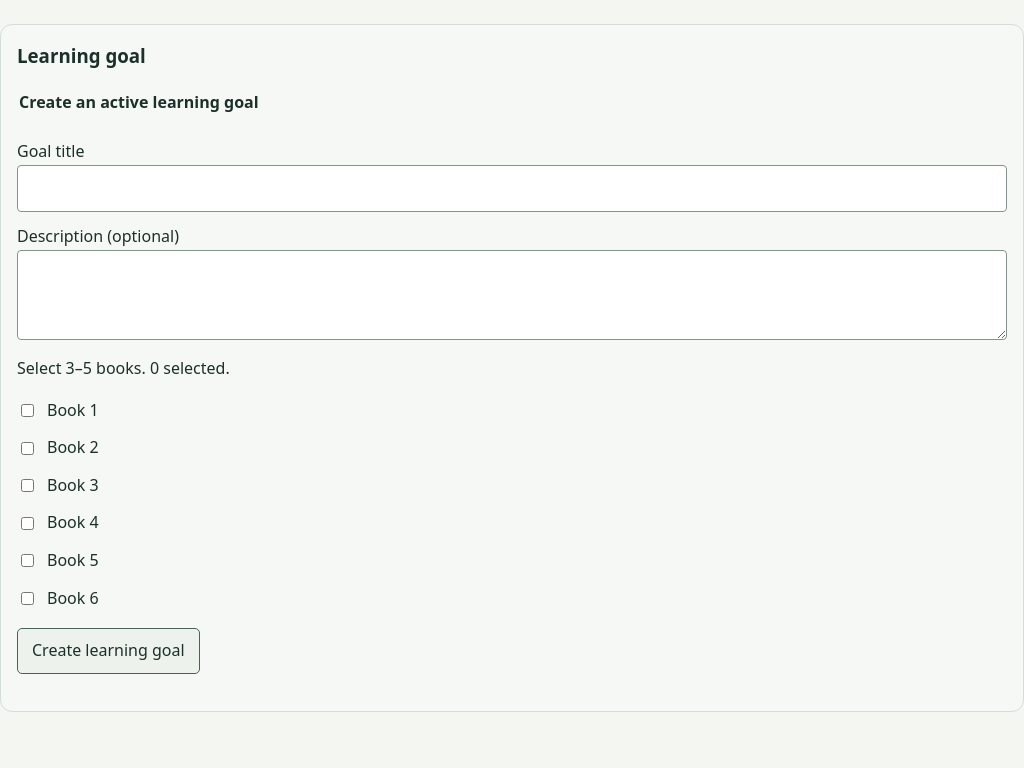
Scenario: learning goals UI › creates a goal with three selected books and focuses its heading
Type "Systems" into the field labelled "Goal title". click: point(512, 189)
box: [17,165,1007,212]
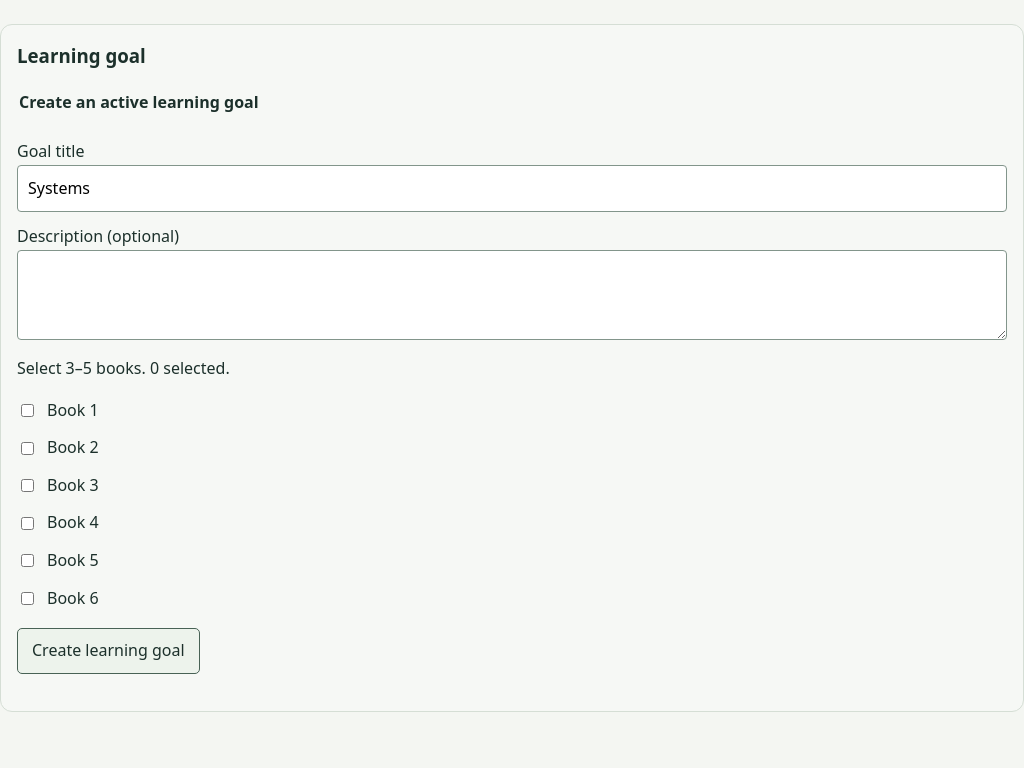
Type "Learn the foundations." into the text box labelled "Description (optional)". click: point(512, 295)
box: [17,250,1007,340]
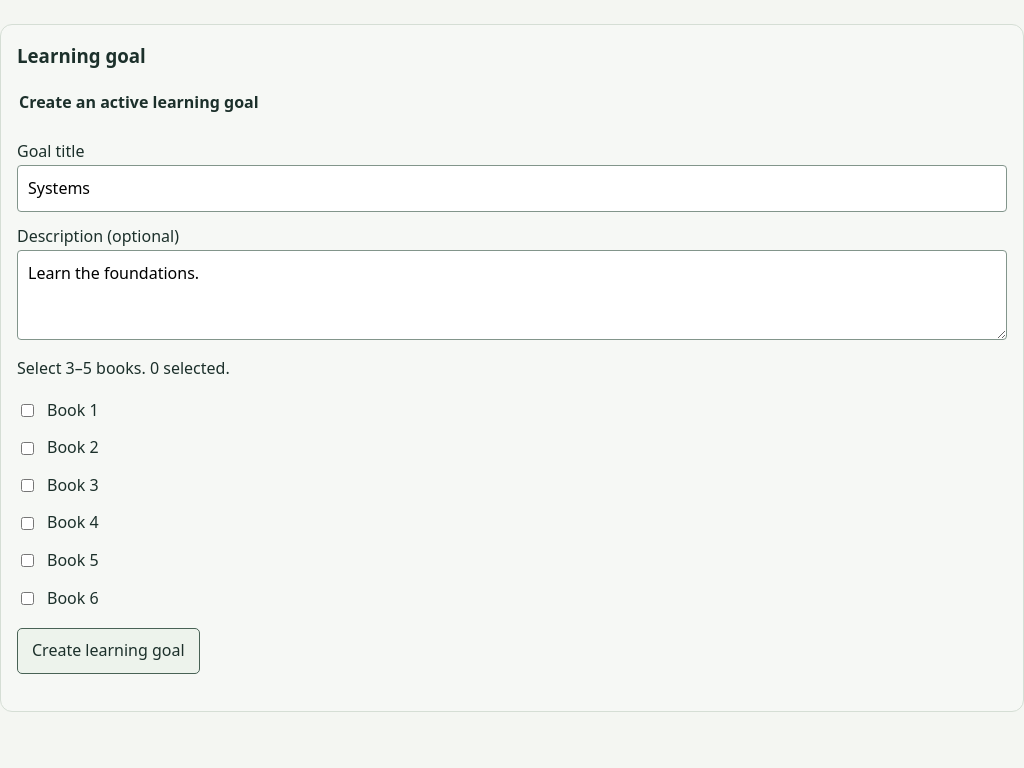
Click the checkbox labelled "Book 1". click: point(28, 410)
box: [21,404,34,417]
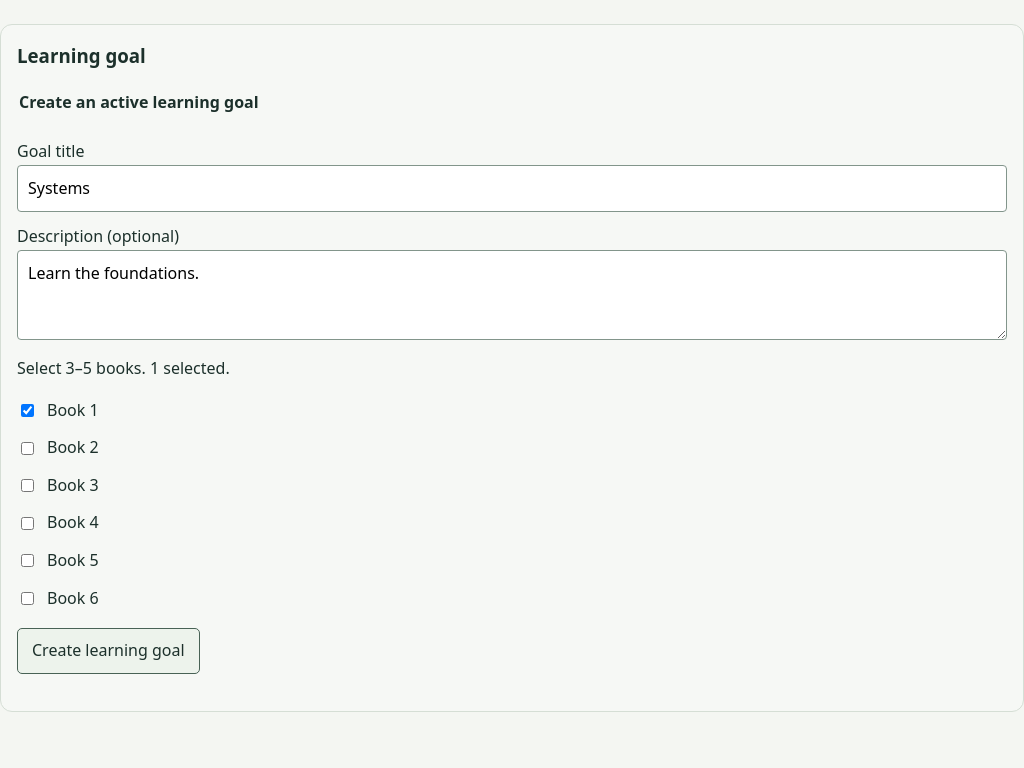
Click the checkbox labelled "Book 2". click: point(28, 448)
box: [21,442,34,454]
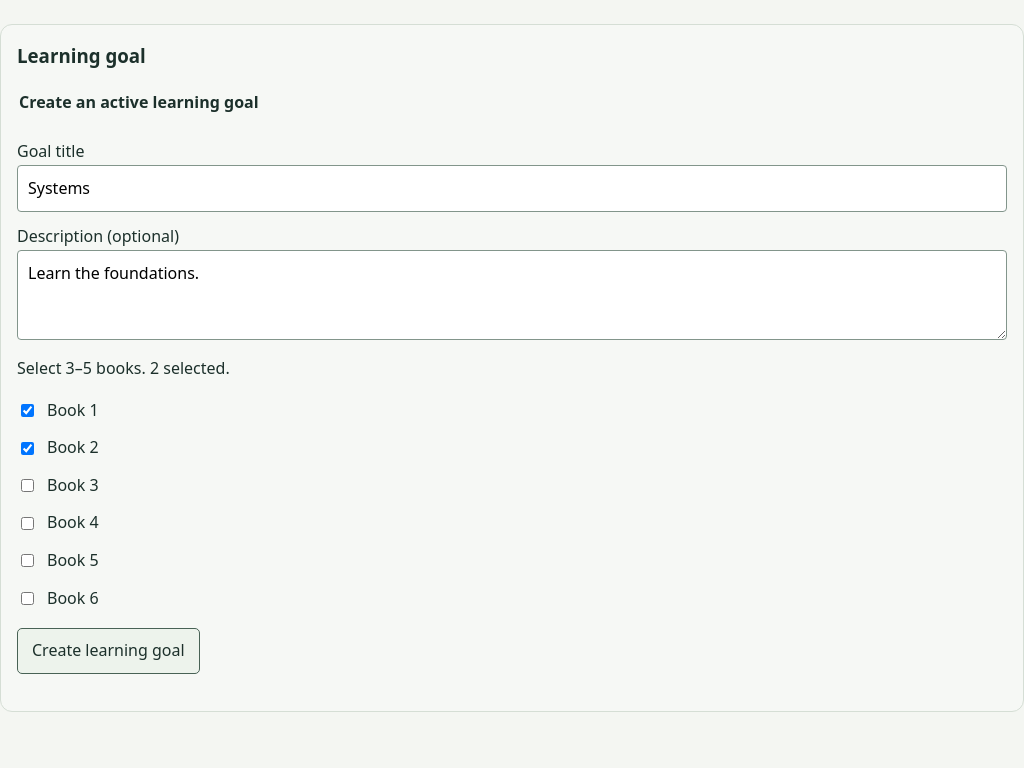
Click the checkbox labelled "Book 3". click: point(28, 486)
box: [21,479,34,492]
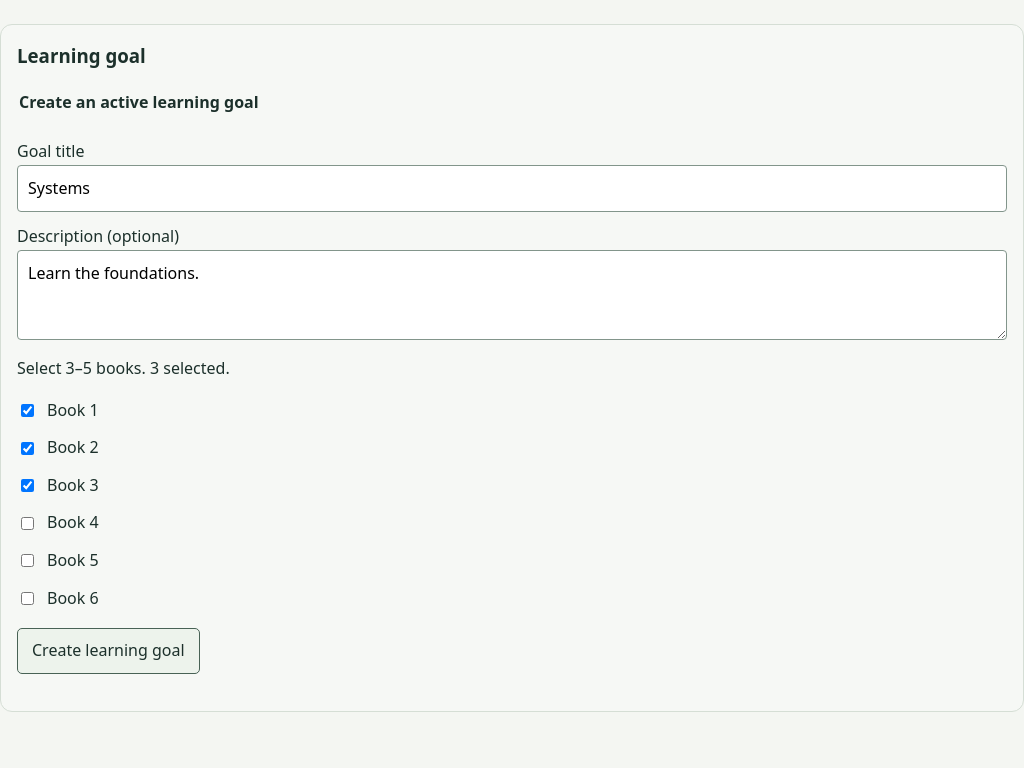
Click the button "Create learning goal". click: point(108, 651)
box: [17,628,200,674]
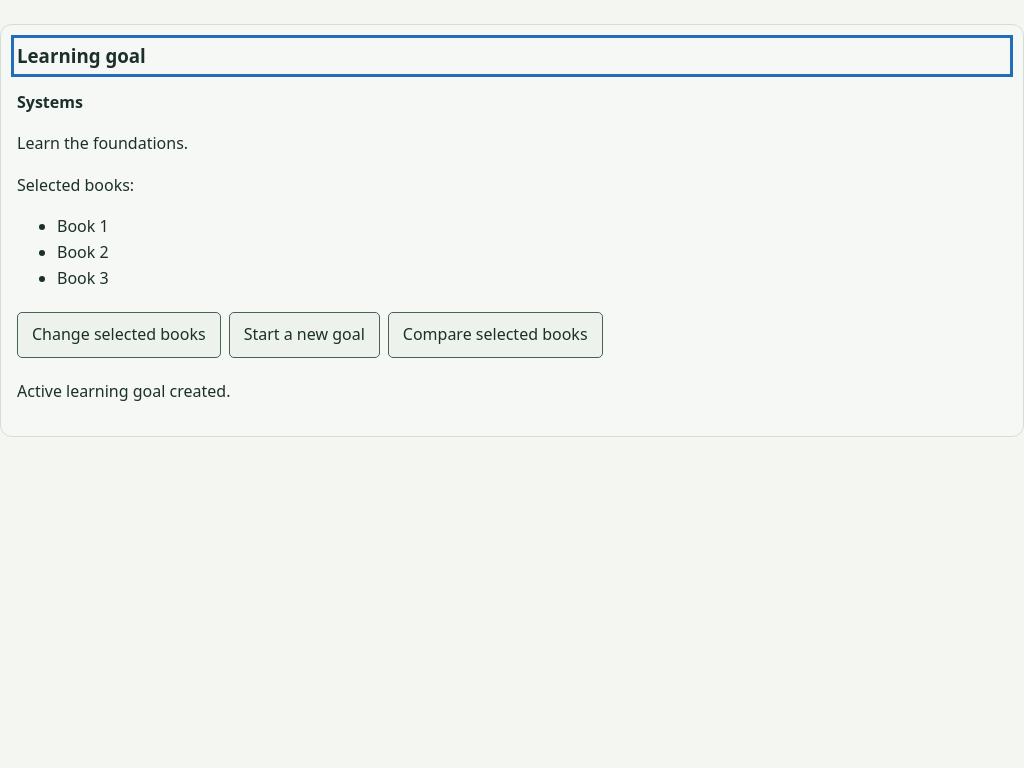
expect the text "Active learning goal created." is shown: met, box [17,380,230,402]
